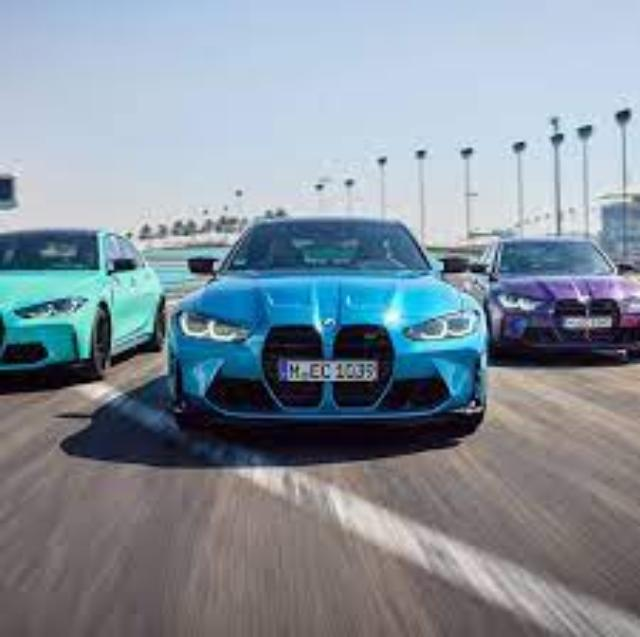bmw: (165, 217, 489, 436), (1, 226, 169, 382), (462, 238, 640, 367)
